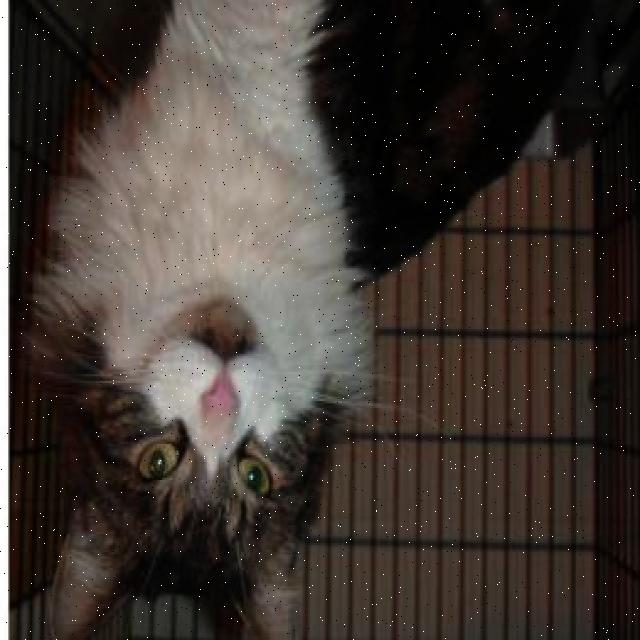Cat: (41, 276, 342, 640)
